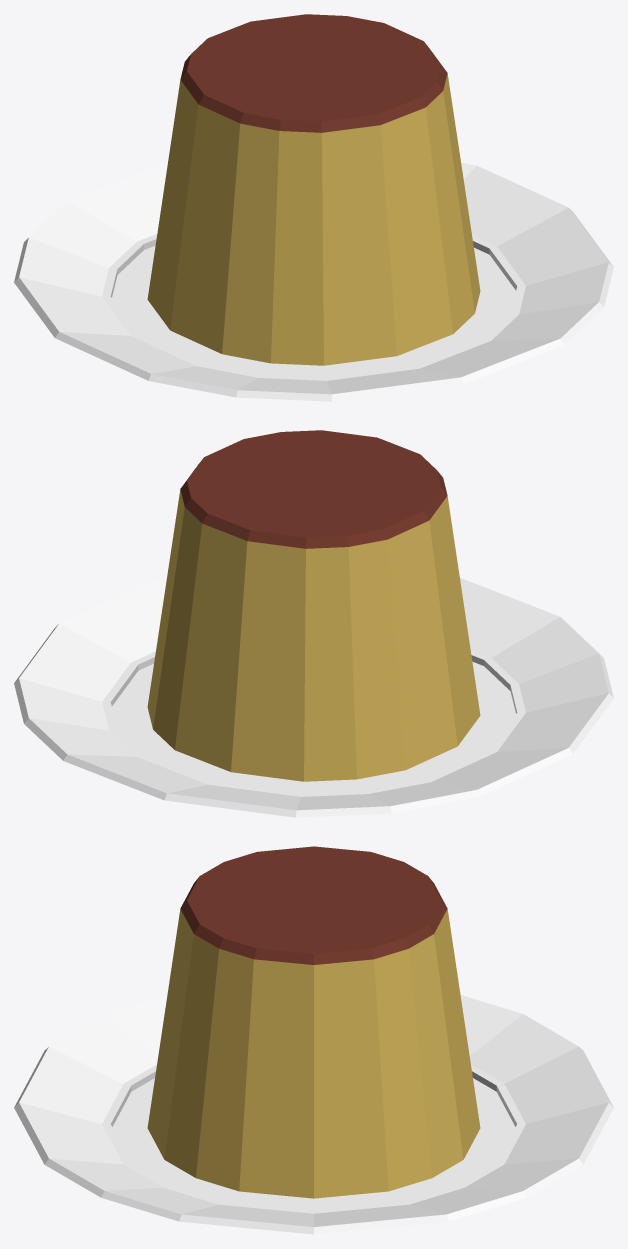
File: pudding.fbx
3 renders of one model, top to bottom at view 1: azimuth 30°, elevation 25°; view 2: azimuth 150°, elevation 25°; view 3: azimuth 270°, elevation 25°, orthographic.
Visible parts, largest first — view 1: pudding; view 2: pudding; view 3: pudding.
Boxes of the visible parts, x1,y1,x2,y2 form: pudding: (14, 14, 613, 401); pudding: (14, 430, 613, 817); pudding: (14, 846, 613, 1234).
Bounding box in the file's own units: 177 × 76.97 × 177.
